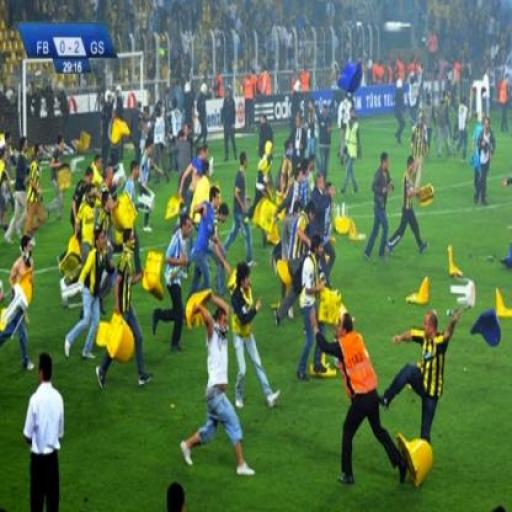Fighting: (0, 110, 465, 510)
